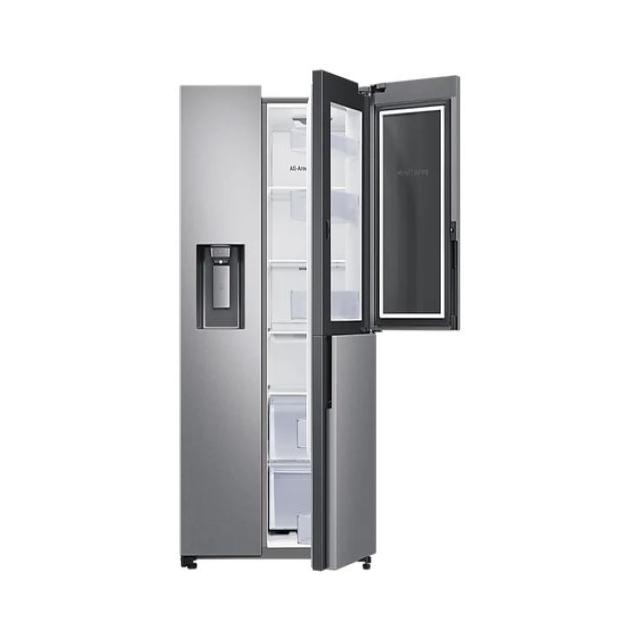obstacle: (178, 68, 460, 572)
